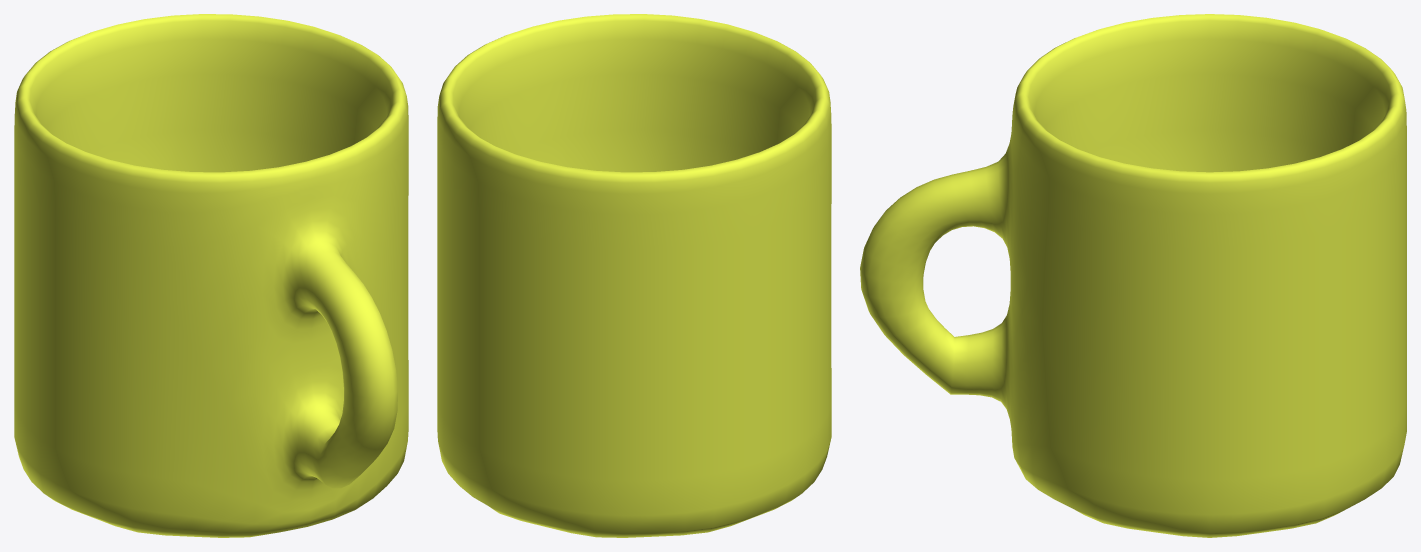
The model's file is mug.obj.
3 views of the same model, side by side, from view 1: azimuth 30°, elevation 25°; view 2: azimuth 150°, elevation 25°; view 3: azimuth 270°, elevation 25° (orthographic).
Parts seen in each view (by area): view 1: mug; view 2: mug; view 3: mug.
Part boxes in pixels (<box>): mug: <box>14,14,408,537</box>; mug: <box>437,14,831,537</box>; mug: <box>860,14,1406,537</box>.
Bounding box in the file's own units: 3.76 × 3.97 × 5.22.
